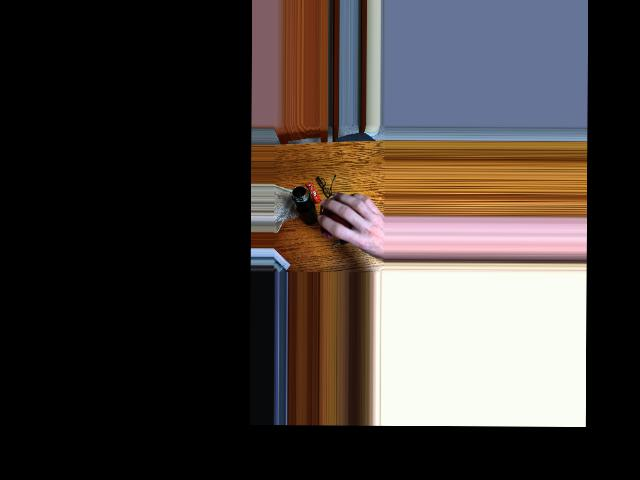onion: (327, 198, 359, 237)
